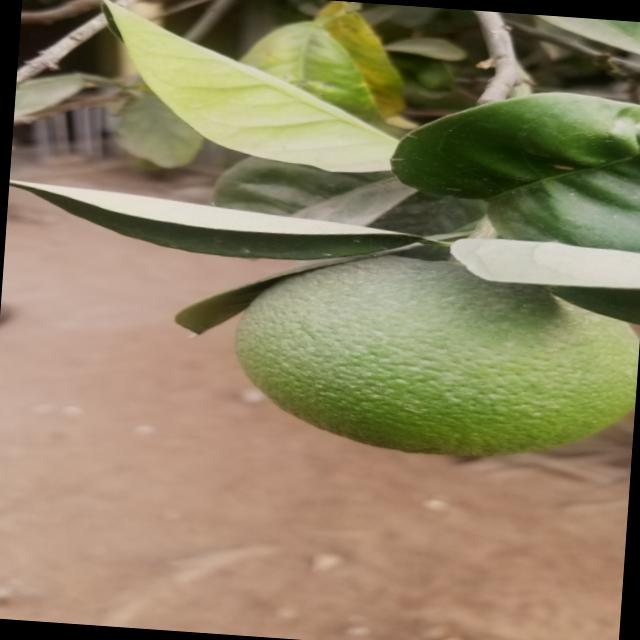Unripe: (233, 247, 634, 472)
